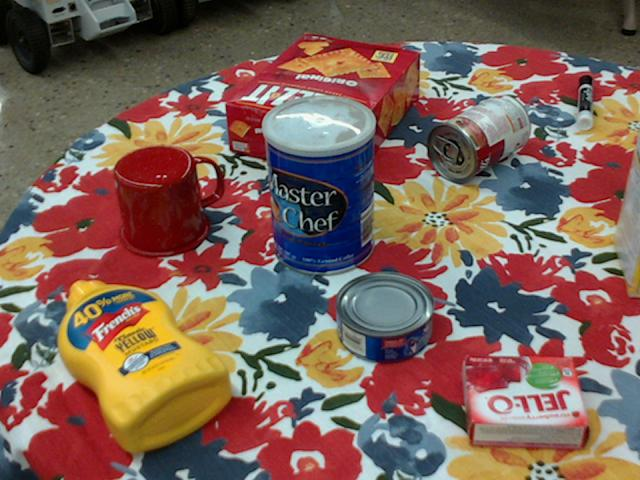cracker_box: (226, 34, 421, 177)
gelatin_box: (465, 356, 591, 449)
large_marker: (576, 75, 594, 128)
master_chef_can: (261, 94, 374, 275)
mug: (113, 144, 221, 257)
mustard_bottle: (58, 280, 233, 451)
potted_meat_can: (638, 162, 639, 174)
sugar_box: (613, 127, 639, 298)
tomato_soup_can: (427, 92, 530, 181)
tuna_fish_can: (335, 272, 435, 364)
